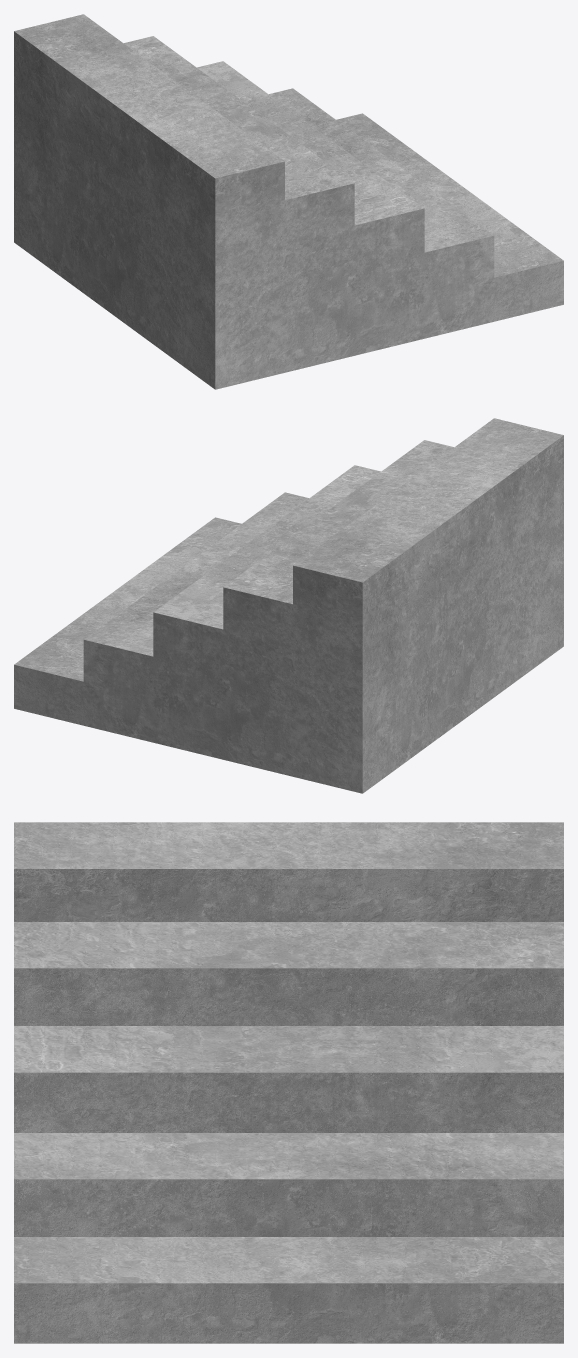
Rendered from Stair.fbx.
3 renders of one model, top to bottom at view 1: azimuth 30°, elevation 25°; view 2: azimuth 150°, elevation 25°; view 3: azimuth 270°, elevation 25°, orthographic. The views are drawn at different scales.
Visible parts, largest first — view 1: Cube.013; view 2: Cube.013; view 3: Cube.013.
Boxes of the visible parts, x1,y1,x2,y2 form: Cube.013: (14,14,563,389); Cube.013: (14,418,563,793); Cube.013: (14,822,563,1343).
Size of the model in its own units: 124 by 71.51 by 124.
